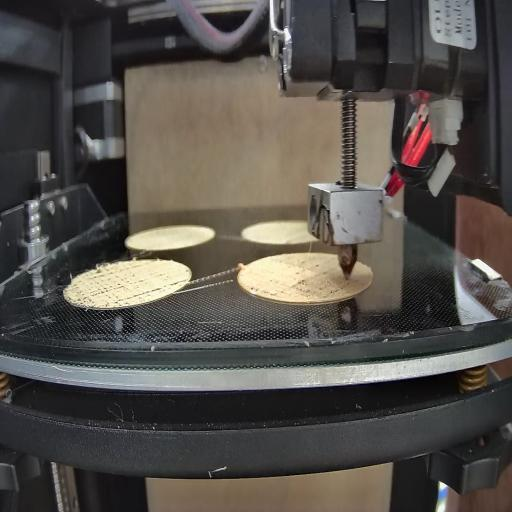under_extrusion: (70, 263, 162, 304), (249, 271, 346, 300), (165, 274, 187, 290), (296, 259, 323, 269)
